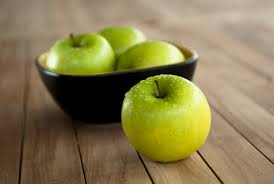apple: (122, 79, 212, 160), (45, 28, 113, 74), (115, 41, 190, 74)
